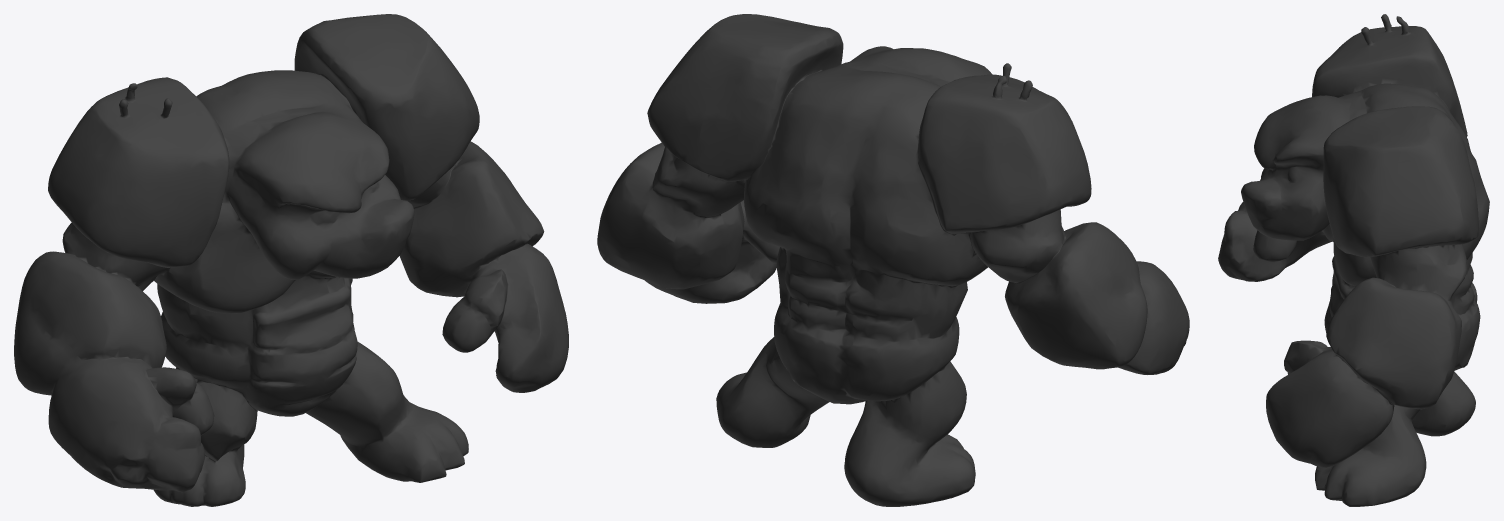
File: sk_muro_magma.glb
3 renders of one model, left to right at view 1: azimuth 30°, elevation 25°; view 2: azimuth 150°, elevation 25°; view 3: azimuth 270°, elevation 25°, orthographic. The views are drawn at different scales.
Visible parts, largest first — view 1: geometry_0; view 2: geometry_0; view 3: geometry_0.
Boxes of the visible parts, left/top/right/bottom form: geometry_0: left=14, top=14, right=568, bottom=506; geometry_0: left=597, top=14, right=1189, bottom=506; geometry_0: left=1218, top=14, right=1489, bottom=506.
Size of the model in its own units: 1.2 by 0.9729 by 0.6445.
1 material, 1 textured.
